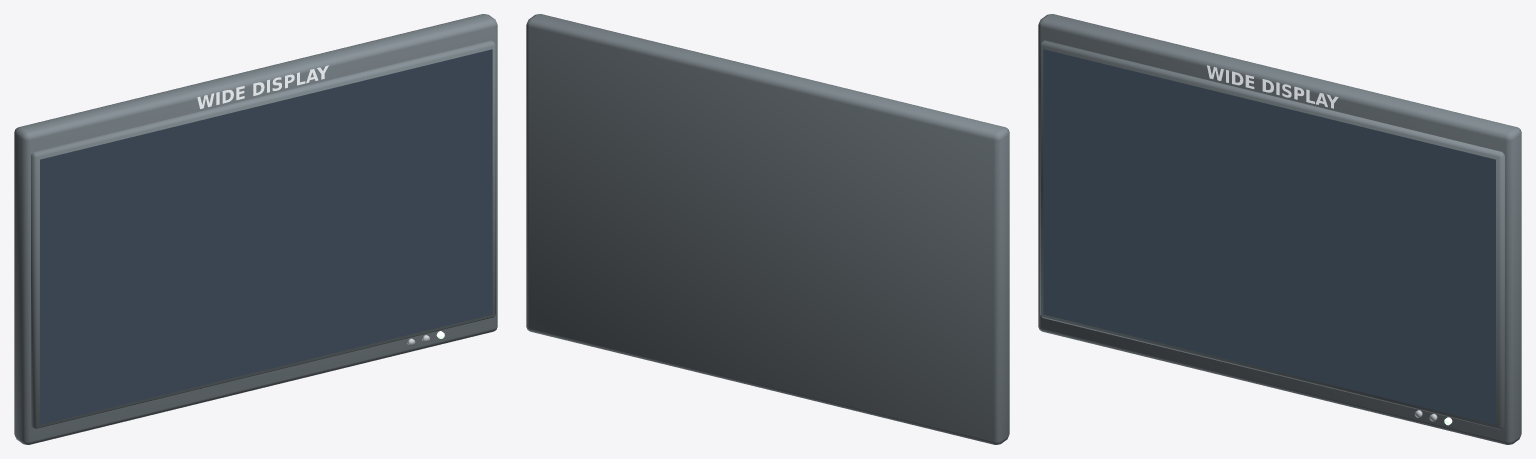
File: wide_display_ultra.glb
The picture shows the model from 3 angles, left to right: view 1: azimuth 30°, elevation 25°; view 2: azimuth 150°, elevation 25°; view 3: azimuth 330°, elevation 25°; orthographic projection.
Parts seen in each view (by area): view 1: LiveViewSurface_glass, DisplayHousing_frame, LiveViewSurfaceFrame_frame, TypeLabel_white; view 2: DisplayHousing_frame; view 3: LiveViewSurface_glass, DisplayHousing_frame, LiveViewSurfaceFrame_frame, TypeLabel_white.
Part boxes in pixels (box(x1,y1,x2,y2)): LiveViewSurface_glass: box(40, 49, 492, 424); DisplayHousing_frame: box(14, 14, 497, 444); LiveViewSurfaceFrame_frame: box(31, 40, 495, 429); TypeLabel_white: box(197, 65, 328, 108); DisplayHousing_frame: box(526, 14, 1009, 444); LiveViewSurface_glass: box(1043, 49, 1495, 424); DisplayHousing_frame: box(1038, 14, 1521, 444); LiveViewSurfaceFrame_frame: box(1040, 40, 1504, 429); TypeLabel_white: box(1207, 65, 1338, 108).
Size of the model in its own units: 2.73 by 1.72 by 0.168.
